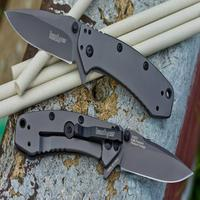knife: (2, 6, 178, 116), (8, 109, 194, 190)
